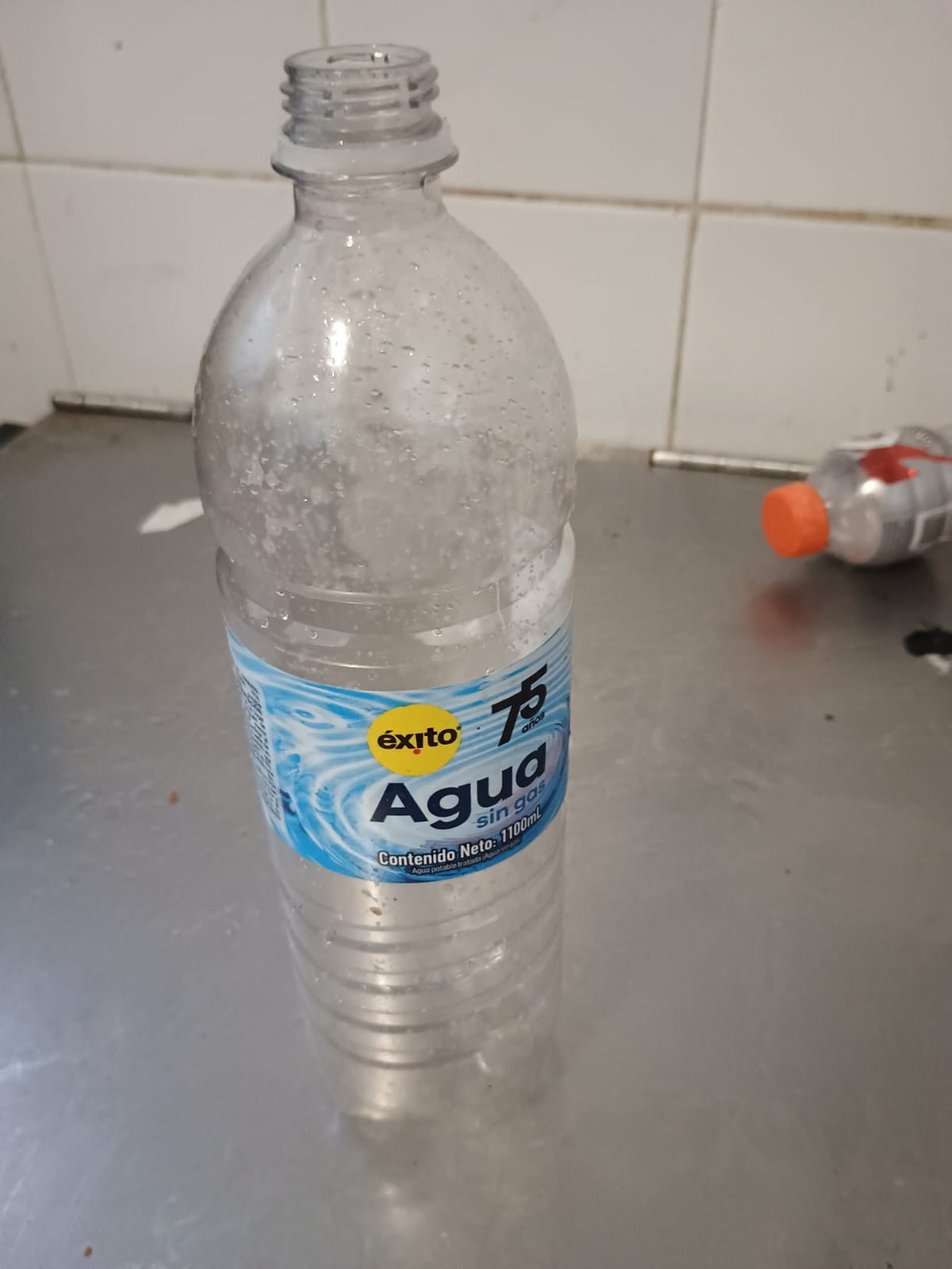Plastico: (195, 44, 577, 1124), (765, 423, 952, 570)
